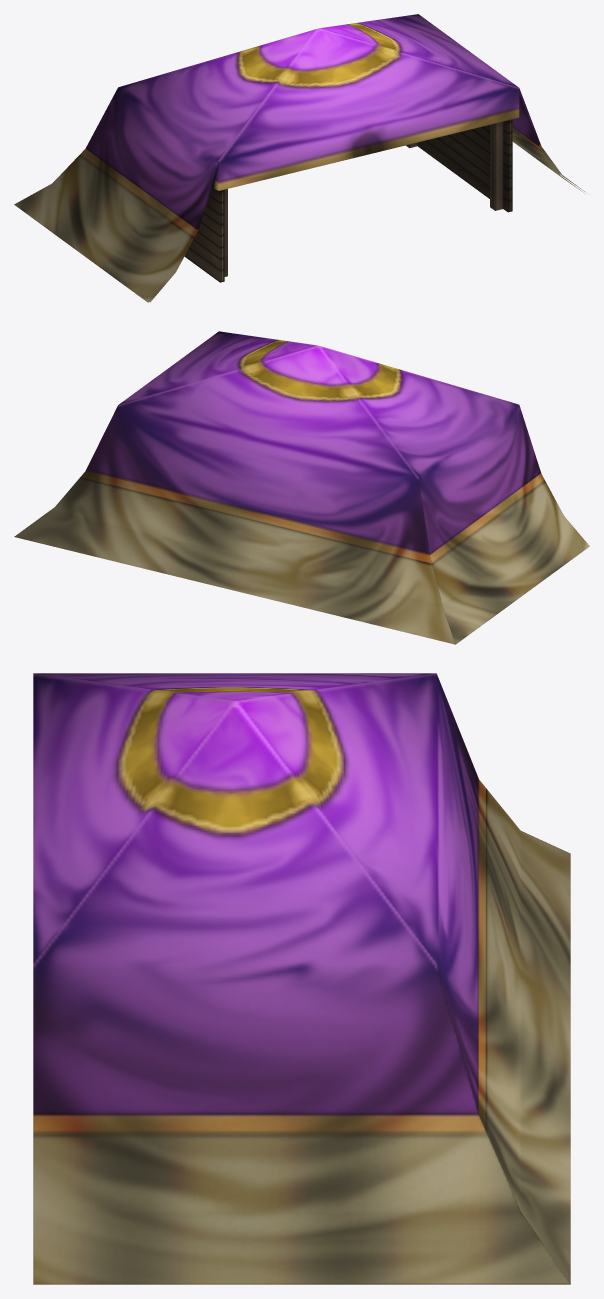
The model's file is tent_mageshop.fbx.
3 views of the same model, one above another, from view 1: azimuth 30°, elevation 25°; view 2: azimuth 150°, elevation 25°; view 3: azimuth 270°, elevation 25° (orthographic). The views are drawn at different scales.
Visible parts, largest first — view 1: Mage_tent; view 2: Mage_tent; view 3: Mage_tent.
Part boxes in pixels (<box>): Mage_tent: <box>14,14,584,302</box>; Mage_tent: <box>14,331,589,644</box>; Mage_tent: <box>33,673,570,1284</box>.
Bounding box in the file's own units: 10.29 × 4.07 × 5.42.
